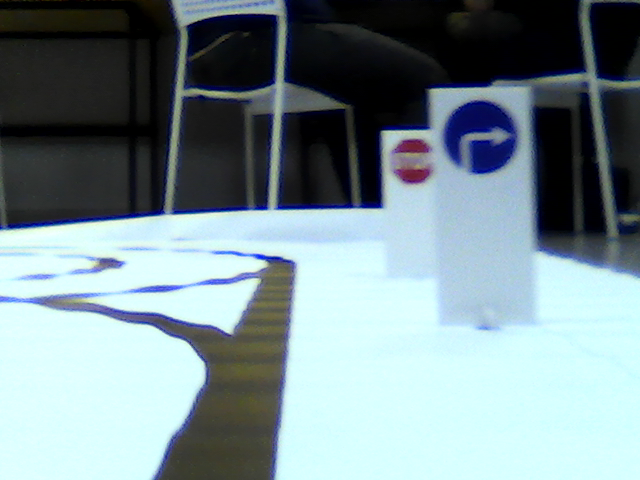Right: (444, 99, 516, 174)
Stop: (386, 139, 434, 184)
